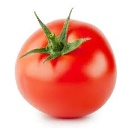tomato: (15, 18, 117, 119)
